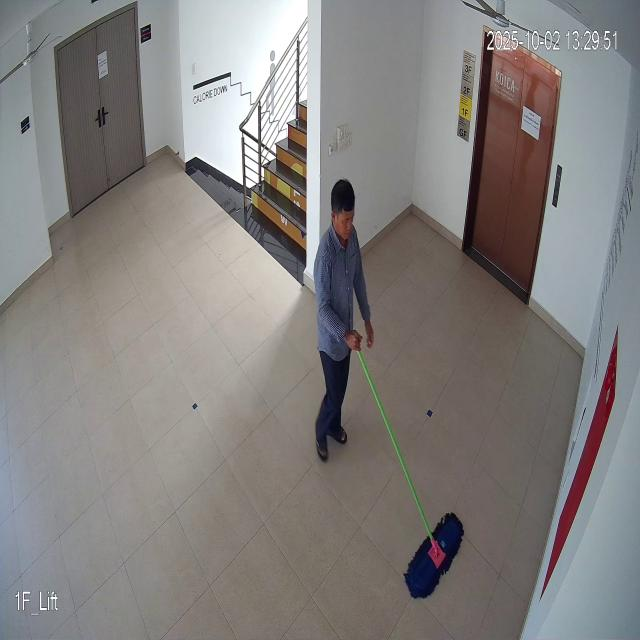face: (329, 178, 362, 244)
